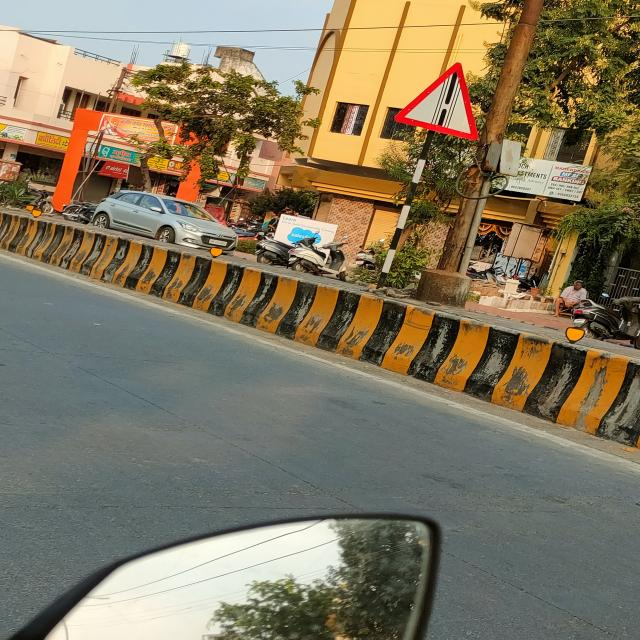GAP_IN_MEDIAN: (394, 63, 479, 139)
